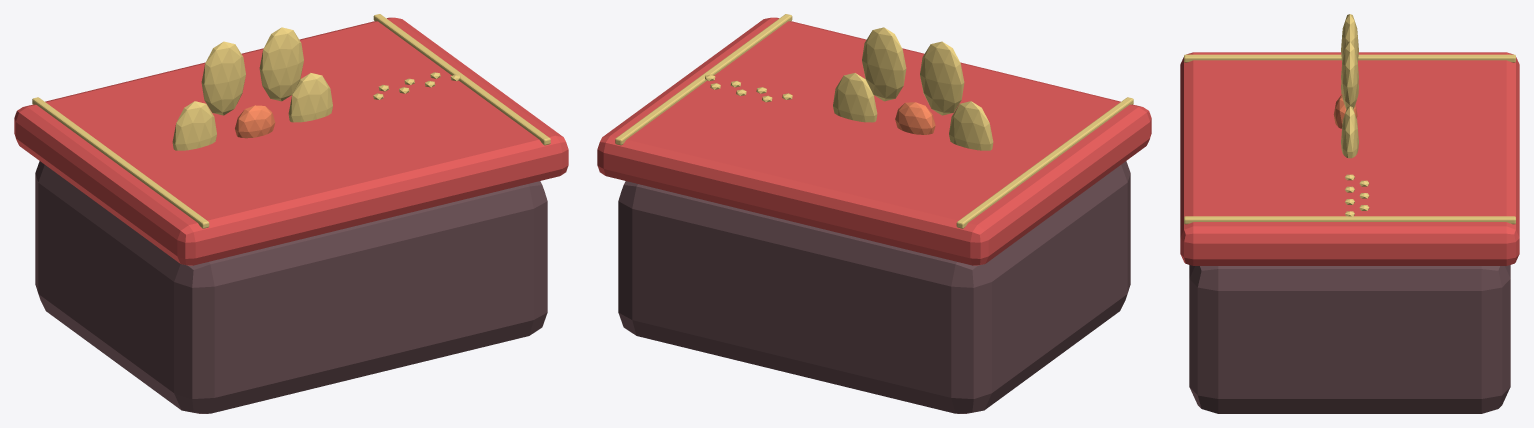
File: writing_suzuribako.glb
The picture shows the model from 3 angles, left to right: view 1: azimuth 30°, elevation 25°; view 2: azimuth 150°, elevation 25°; view 3: azimuth 270°, elevation 25°; orthographic projection. The views are drawn at different scales.
Visible parts, largest first — view 1: Suzuribako black lacquered casket, Removable box lid, Large makie motif_petal01, Large makie motif_petal02, Fine gold inlaid edge, Fine gold inlaid edge.001, Large makie motif_petal00, Large makie motif_petal03, Large makie motif_center; view 2: Suzuribako black lacquered casket, Removable box lid, Large makie motif_petal01, Large makie motif_petal02, Fine gold inlaid edge, Fine gold inlaid edge.001, Large makie motif_petal00, Large makie motif_petal03, Large makie motif_center; view 3: Removable box lid, Suzuribako black lacquered casket, Fine gold inlaid edge, Fine gold inlaid edge.001, Large makie motif_petal01, Large makie motif_petal00, Large makie motif_petal02, Large makie motif_center.
Part boxes in pixels (x1=…): Suzuribako black lacquered casket: x1=35, y1=161, x2=547, y2=413; Removable box lid: x1=14, y1=17, x2=568, y2=265; Large makie motif_petal01: x1=259, y1=27, x2=303, y2=101; Large makie motif_petal02: x1=201, y1=41, x2=245, y2=115; Fine gold inlaid edge: x1=32, y1=97, x2=209, y2=228; Fine gold inlaid edge.001: x1=373, y1=14, x2=550, y2=145; Large makie motif_petal00: x1=288, y1=73, x2=332, y2=122; Large makie motif_petal03: x1=172, y1=101, x2=216, y2=150; Large makie motif_center: x1=235, y1=105, x2=275, y2=138; Suzuribako black lacquered casket: x1=618, y1=161, x2=1130, y2=413; Removable box lid: x1=597, y1=17, x2=1151, y2=265; Large makie motif_petal01: x1=862, y1=27, x2=906, y2=101; Large makie motif_petal02: x1=920, y1=41, x2=964, y2=115; Fine gold inlaid edge: x1=956, y1=97, x2=1133, y2=228; Fine gold inlaid edge.001: x1=615, y1=14, x2=792, y2=145; Large makie motif_petal00: x1=833, y1=73, x2=877, y2=122; Large makie motif_petal03: x1=949, y1=101, x2=993, y2=150; Large makie motif_center: x1=895, y1=102, x2=935, y2=134; Removable box lid: x1=1180, y1=52, x2=1519, y2=265; Suzuribako black lacquered casket: x1=1189, y1=265, x2=1510, y2=413; Fine gold inlaid edge: x1=1184, y1=54, x2=1515, y2=62; Fine gold inlaid edge.001: x1=1184, y1=216, x2=1515, y2=224; Large makie motif_petal01: x1=1341, y1=41, x2=1358, y2=109; Large makie motif_petal00: x1=1341, y1=106, x2=1358, y2=158; Large makie motif_petal02: x1=1341, y1=14, x2=1358, y2=61; Large makie motif_center: x1=1333, y1=94, x2=1357, y2=128.
Bounding box in the file's own units: 1.95 × 1.44 × 1.51.
